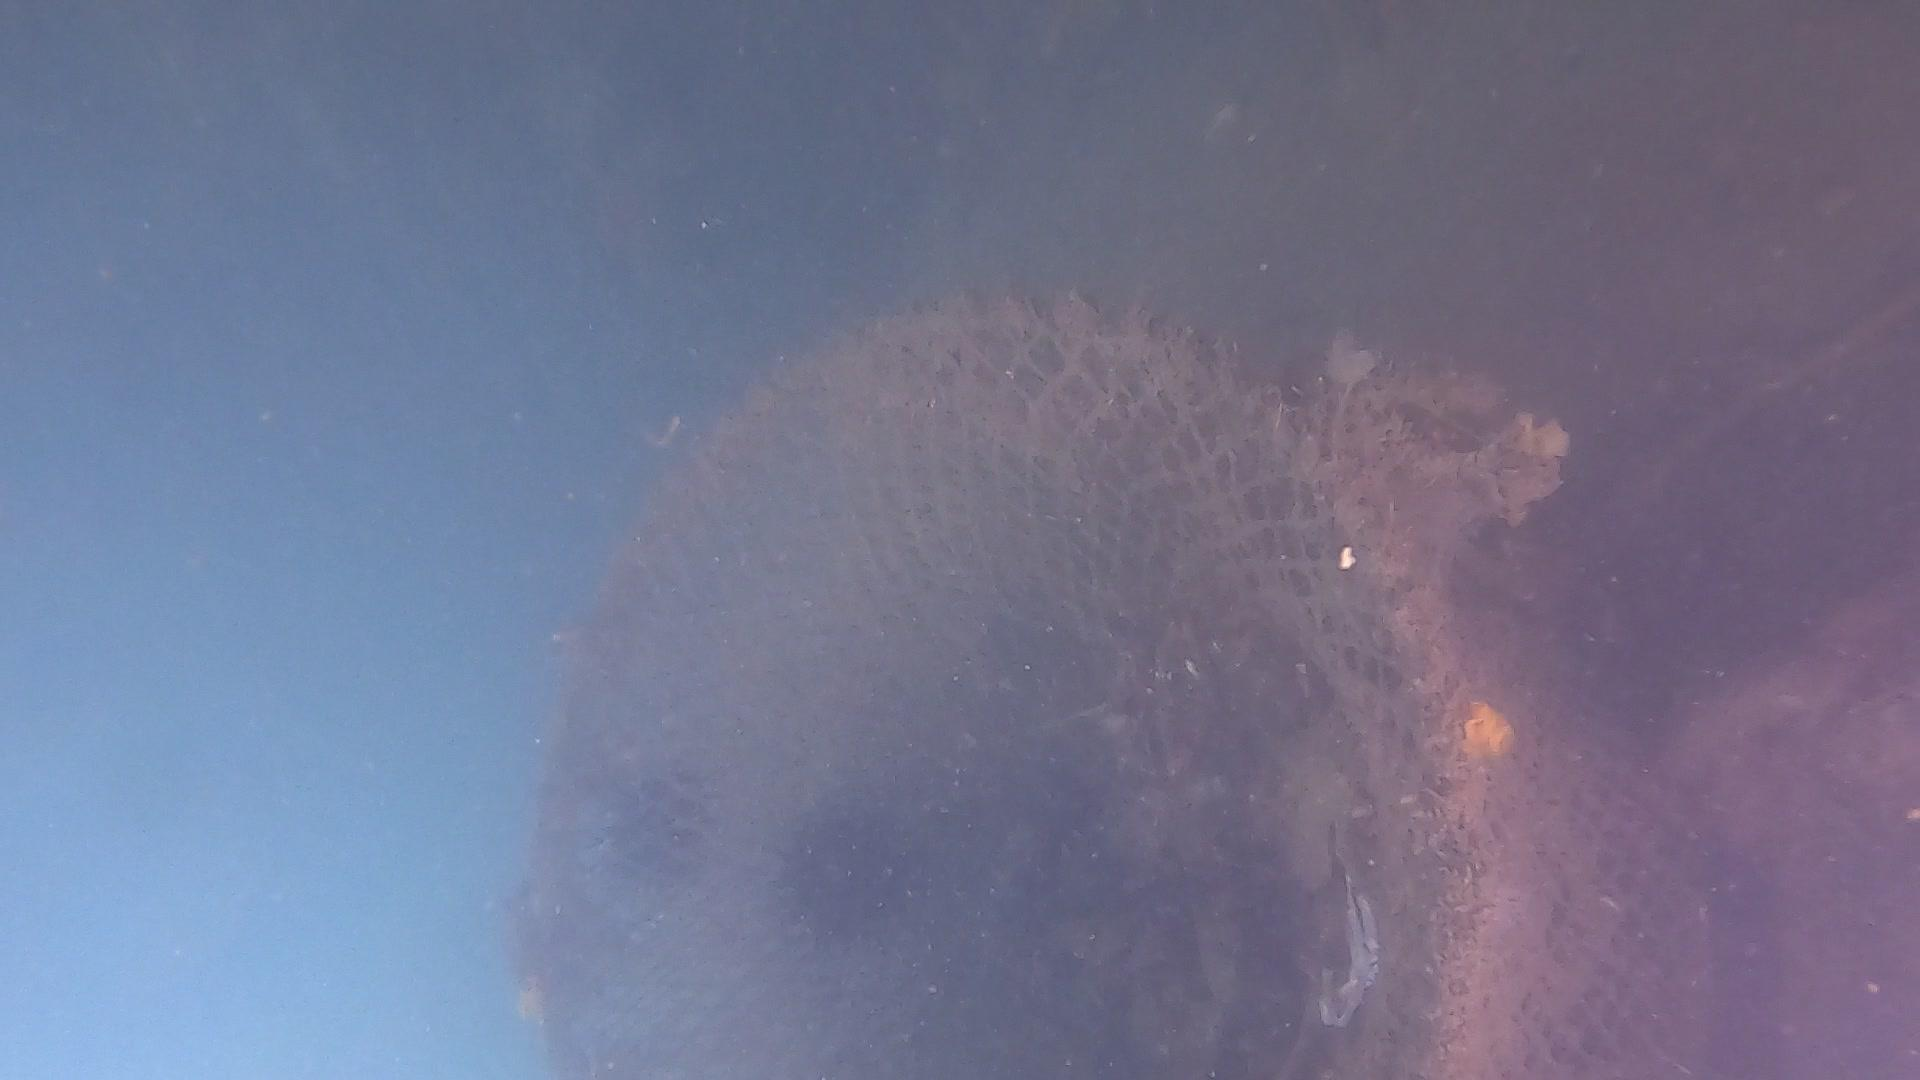circular fish trap: (526, 291, 1712, 1080)
